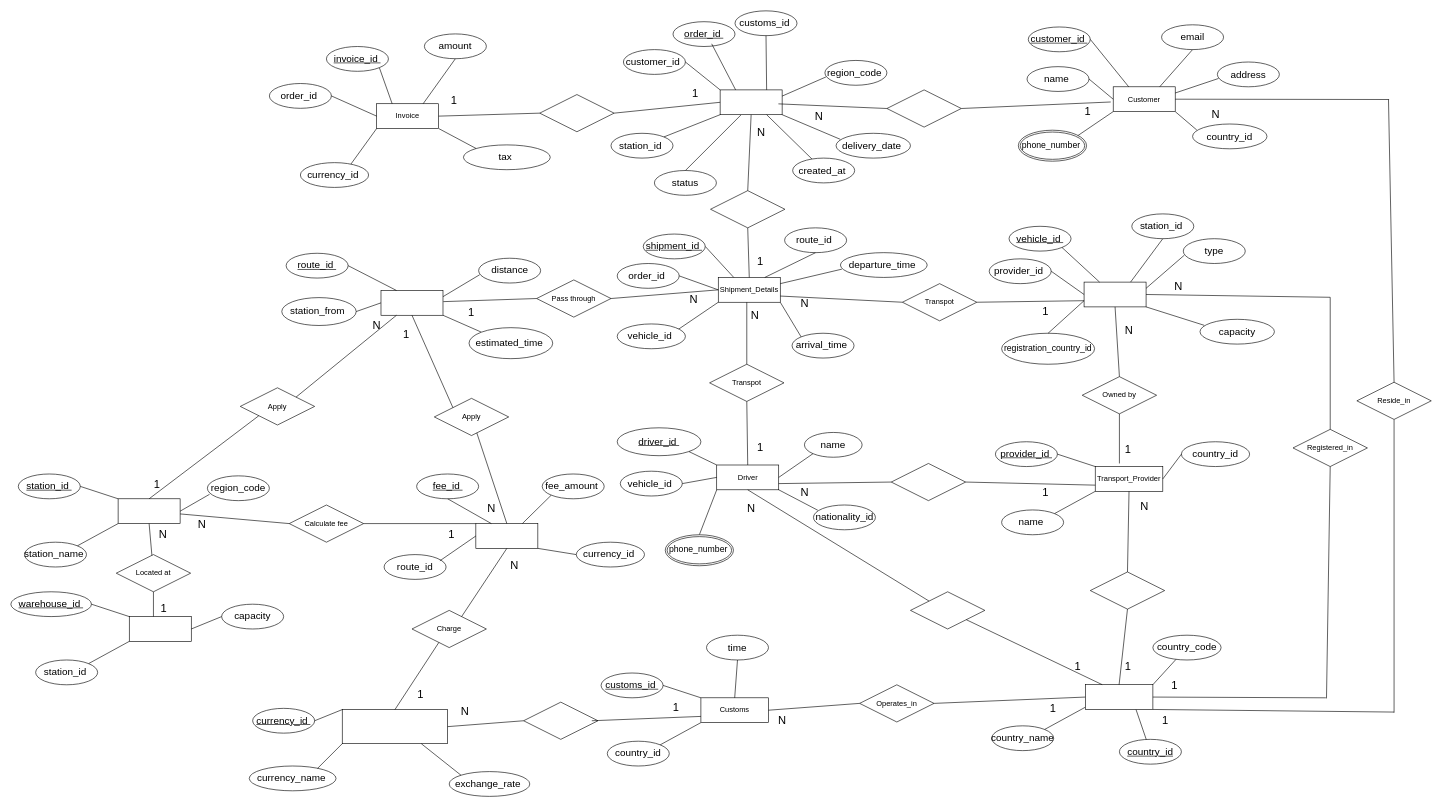
Some shapes in this 1442 by 807 pixel diagram are drawn without their labels. The centre of each missing label's shape, as x and y in pixels:
"Based_in" belongs at point (1127, 590).
"Citizen_of" belongs at point (947, 610).
"Country" belongs at point (1119, 696).
"Create" belongs at point (576, 113).
"Currency_Exchange" belongs at point (395, 726).
"Drive for" belongs at point (928, 482).
"Order" belongs at point (751, 102).
"Place" belongs at point (923, 108).
"Receive" belongs at point (747, 209).
"Relate to" belongs at point (560, 720).
"Route" belongs at point (411, 302).
"Shipping_Fee" belongs at point (506, 535).
"Station" belongs at point (148, 511).
"Vehicle" belongs at point (1114, 294).
"Warehouse" belongs at point (160, 628).
